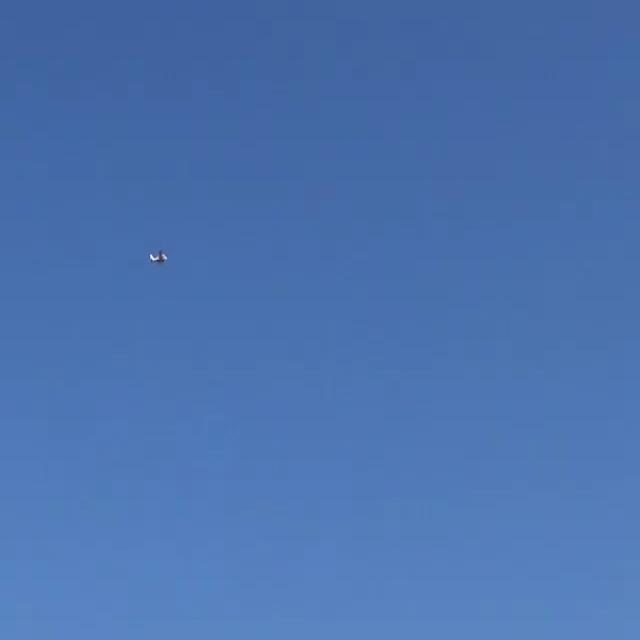AirPlane: (142, 240, 178, 276)
